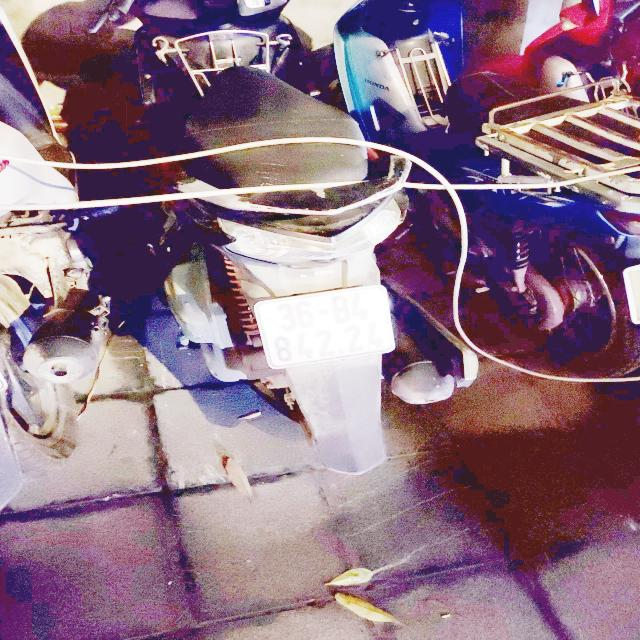license_plate: (263, 284, 402, 368)
